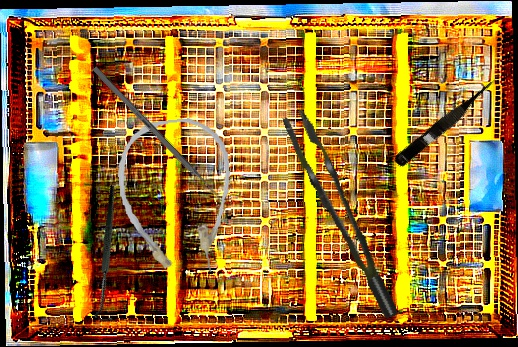Cannula: (113, 114, 240, 281)
Hook Surgical: (45, 184, 175, 327)
Micro Scissor: (392, 73, 504, 171)
Pusher: (91, 65, 229, 208)
Tissue Forceps: (281, 101, 399, 330)
